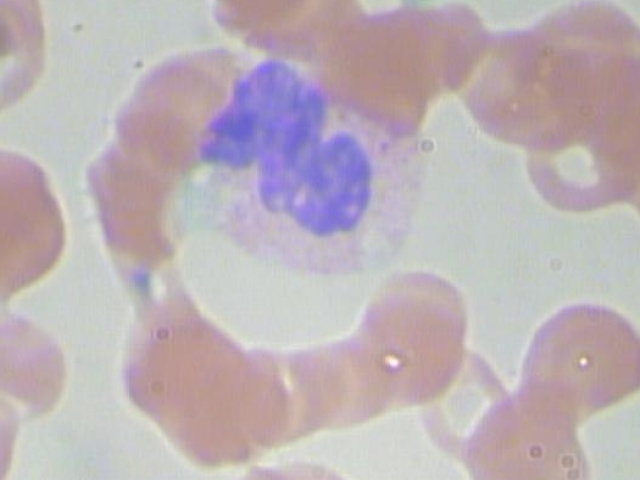RBC: (443, 18, 597, 148), (400, 336, 537, 465), (507, 90, 640, 221), (517, 297, 640, 423), (364, 258, 476, 390), (337, 289, 449, 421), (269, 318, 381, 450), (311, 306, 422, 438), (506, 0, 640, 108), (467, 386, 604, 480), (0, 300, 79, 423), (0, 0, 54, 126), (0, 0, 60, 74), (202, 0, 353, 29), (265, 451, 372, 480), (0, 384, 31, 480), (215, 459, 319, 480)
WBC: (208, 52, 447, 284)
